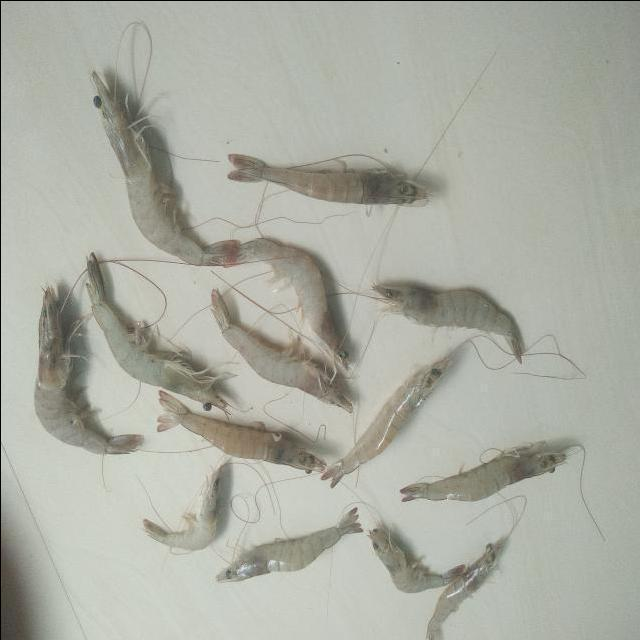shrimp: (90, 70, 214, 264), (84, 252, 231, 411), (32, 286, 140, 455), (210, 289, 352, 413), (320, 358, 451, 488), (222, 238, 348, 369), (156, 390, 326, 473), (372, 285, 523, 362), (215, 509, 362, 583), (226, 153, 429, 205), (400, 442, 567, 502), (426, 541, 504, 640), (142, 466, 221, 551), (369, 527, 465, 593)
